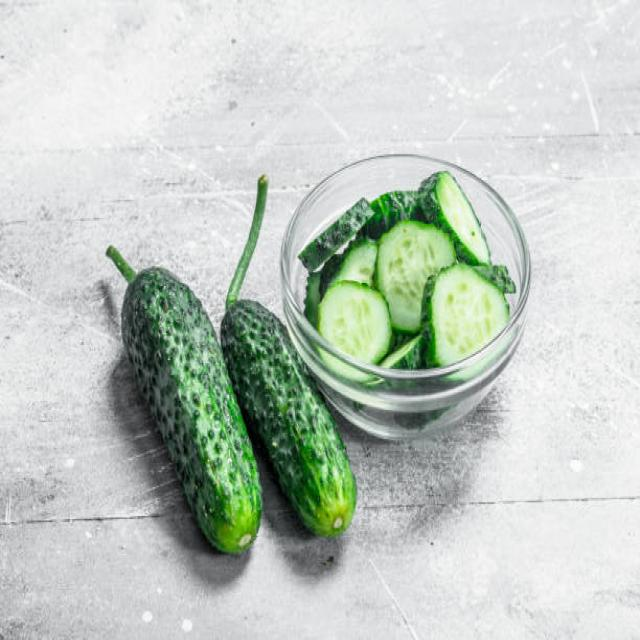cucumber: (121, 266, 261, 554), (219, 300, 360, 541)
